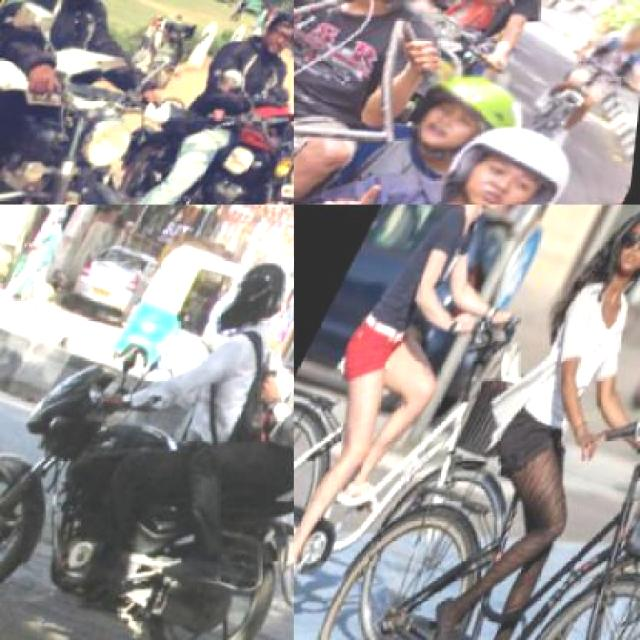With Helmet: (400, 56, 555, 204), (432, 106, 598, 203), (200, 250, 292, 362), (328, 0, 484, 37)
Without Helmet: (251, 3, 292, 71), (606, 205, 639, 280), (46, 0, 129, 18), (614, 26, 638, 77)
